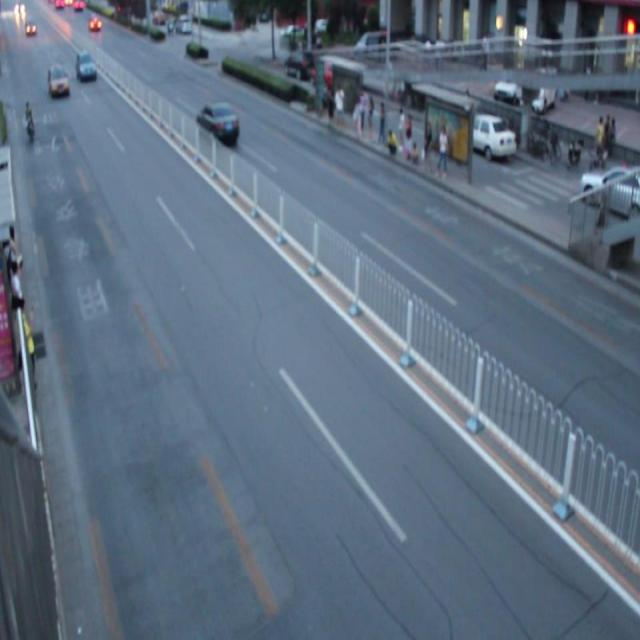car: (195, 100, 240, 145)
